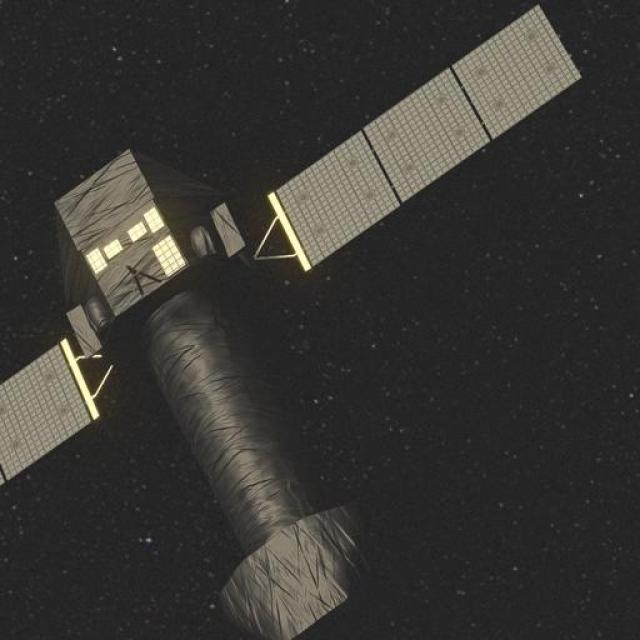xmm_newton: (28, 16, 600, 566)
